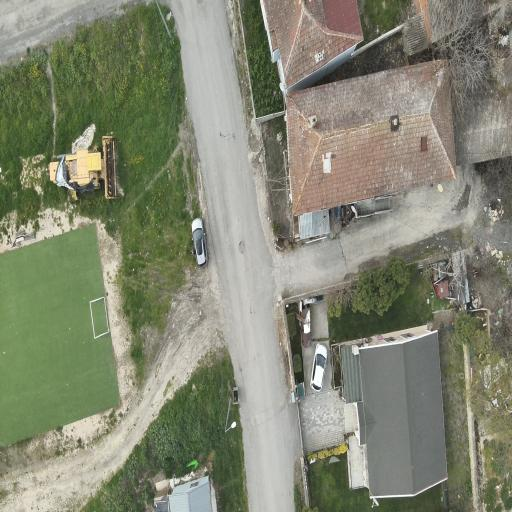car: (311, 343, 327, 391), (192, 218, 207, 267)
harvester: (50, 137, 117, 199)
